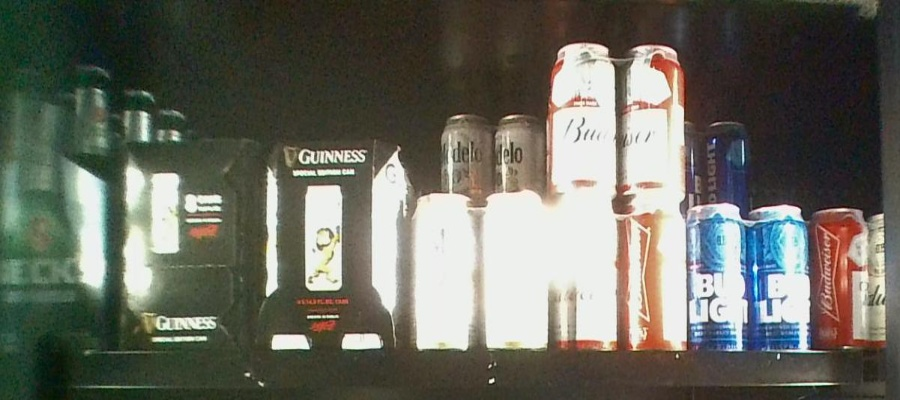bottle: (549, 42, 687, 348), (260, 140, 412, 352), (115, 135, 256, 349), (412, 192, 551, 349), (685, 201, 808, 352)
